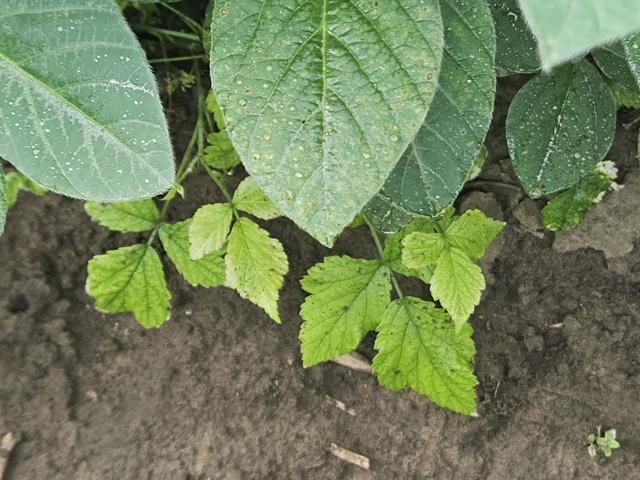bad weed: (91, 125, 487, 399)
